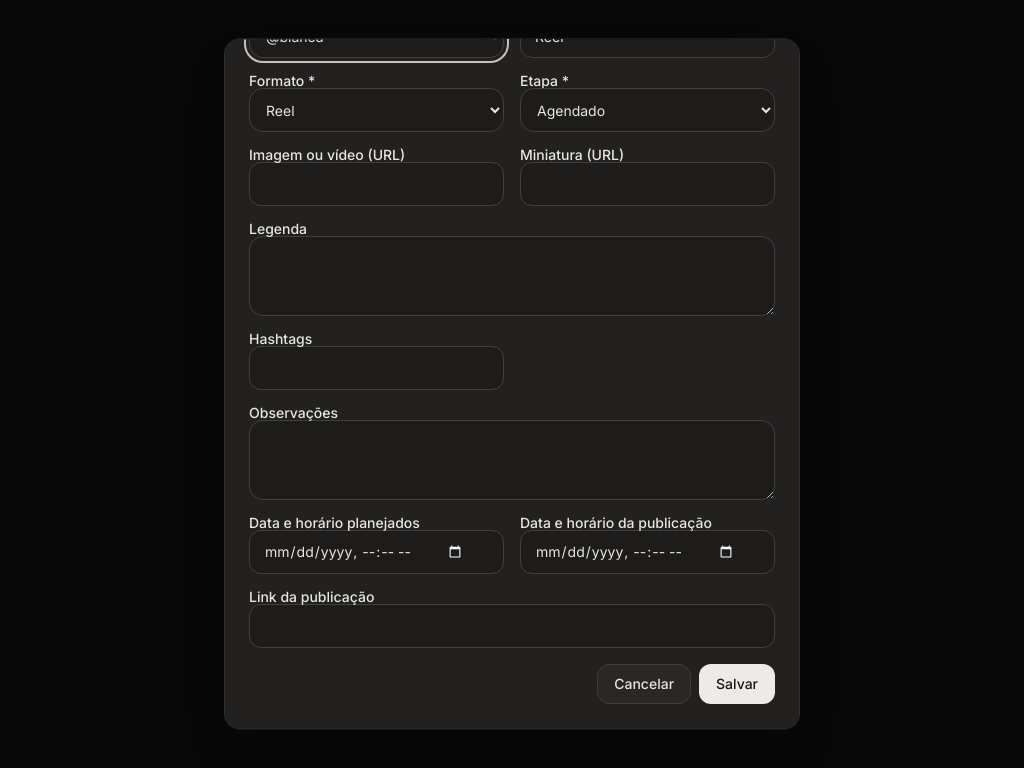
Test: Instagram editor workflows › requires a planned date for scheduled content
(page scrolled)
Click the button "Salvar" at x=737, y=684, box [699,664,775,704]
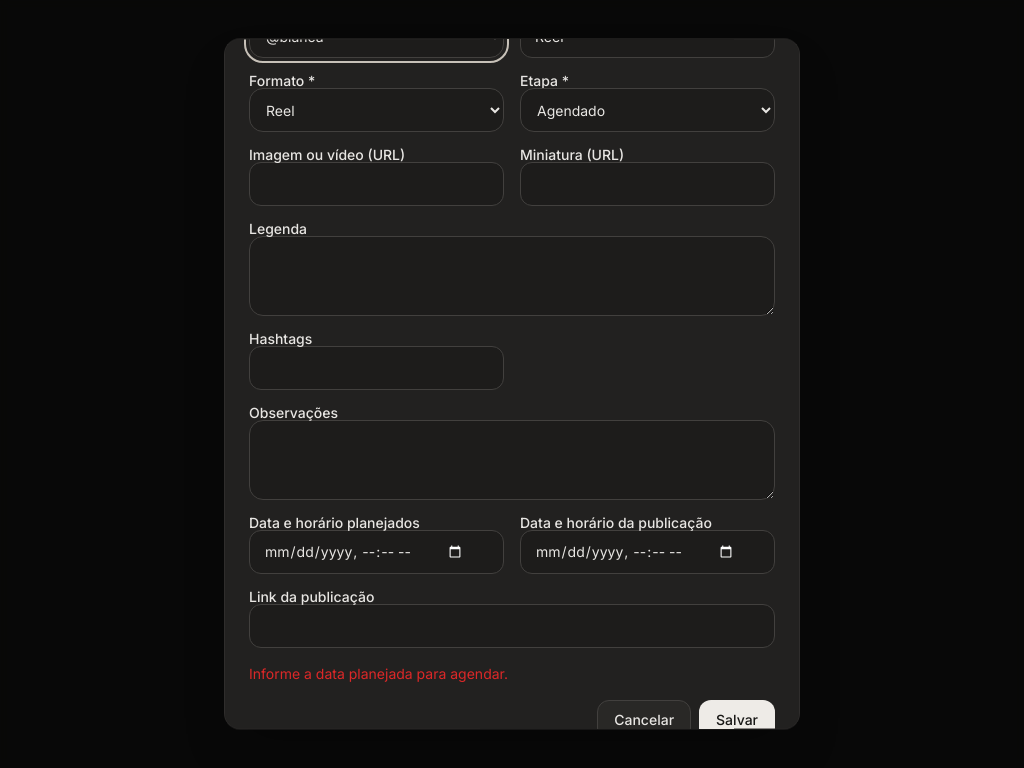
Check: the message shows "data planejada", box [249,665,508,682]
